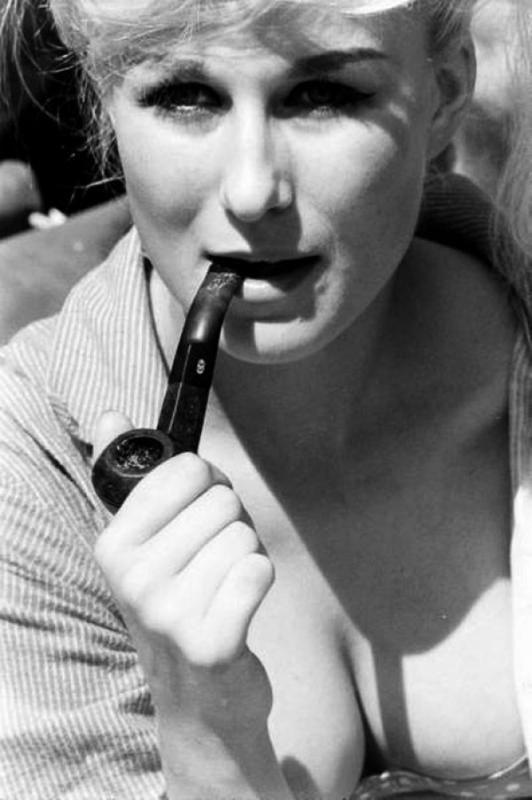trubka: (91, 259, 250, 513)
